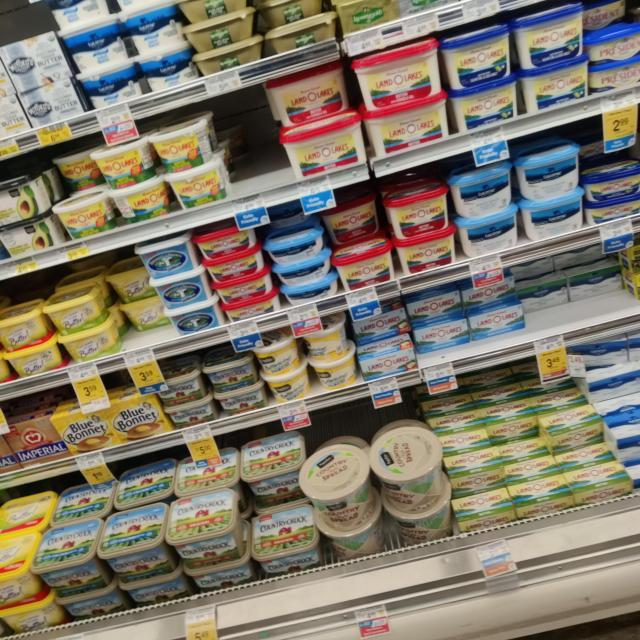Butter: (296, 436, 376, 532), (367, 427, 451, 518), (354, 36, 454, 110), (273, 107, 371, 181), (258, 58, 358, 128), (363, 87, 449, 158), (438, 21, 519, 95), (98, 506, 172, 586), (166, 496, 252, 564), (230, 432, 316, 496), (102, 383, 176, 454), (44, 392, 118, 460), (518, 53, 599, 115), (54, 6, 134, 68), (506, 9, 597, 63), (328, 232, 402, 298), (517, 131, 587, 199), (441, 72, 522, 130), (447, 157, 515, 223), (50, 316, 136, 368), (455, 199, 527, 261), (165, 154, 241, 212), (377, 186, 460, 239), (148, 114, 218, 174), (48, 185, 120, 243), (519, 189, 599, 241), (119, 5, 196, 58), (102, 168, 168, 229), (91, 130, 161, 185), (356, 328, 424, 384), (44, 279, 114, 330), (195, 217, 265, 266), (300, 307, 360, 362), (467, 291, 534, 339), (250, 323, 308, 377), (146, 268, 217, 312), (131, 234, 201, 278), (198, 352, 266, 396), (412, 310, 474, 358), (150, 369, 216, 410), (162, 293, 222, 335), (265, 221, 323, 264)
